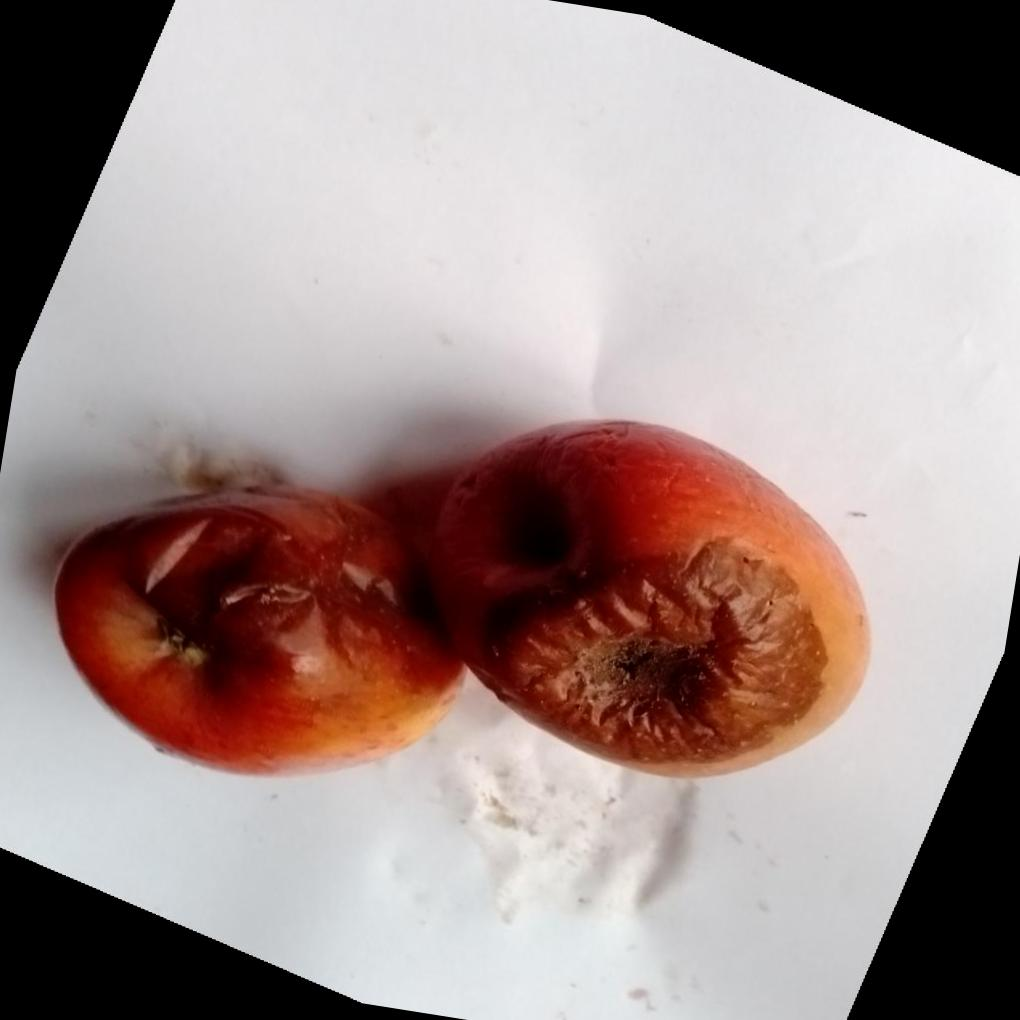FreshOrange: (144, 420, 873, 782)
